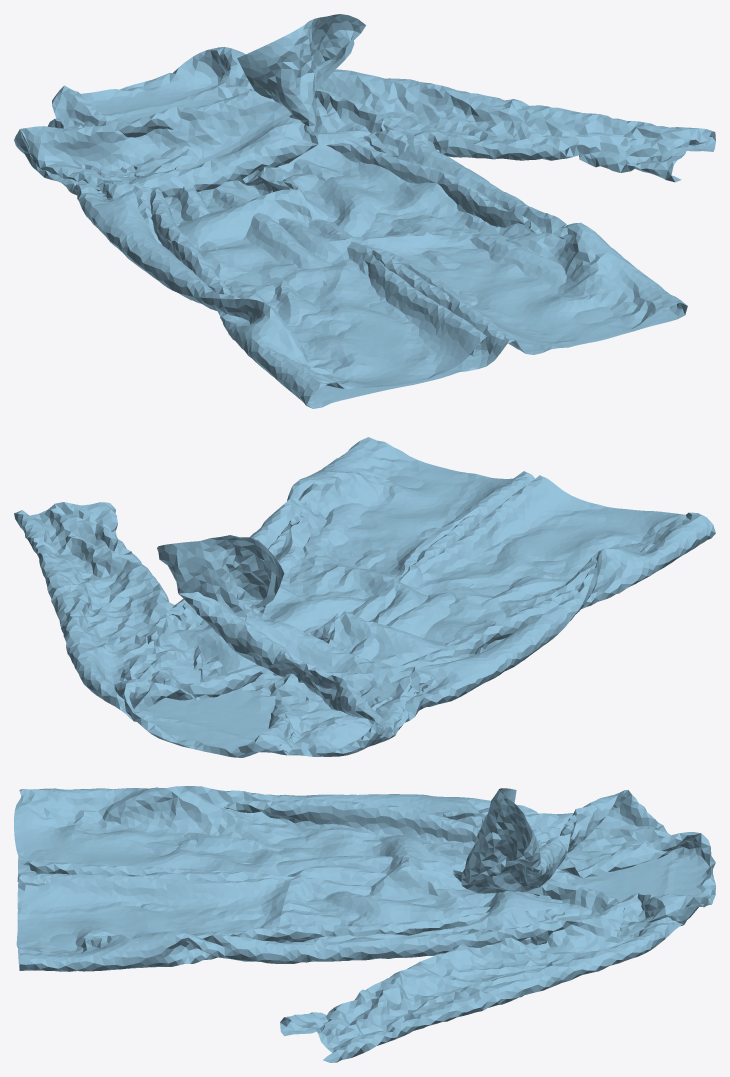
Rendered from frame_19.glb.
3 views of the same model, one above another, from view 1: azimuth 30°, elevation 25°; view 2: azimuth 150°, elevation 25°; view 3: azimuth 270°, elevation 25° (orthographic). The views are drawn at different scales.
Parts seen in each view (by area): view 1: frame_19.obj; view 2: frame_19.obj; view 3: frame_19.obj.
Boxes of the visible parts, x1,y1,x2,y2 form: frame_19.obj: (14, 14, 715, 408); frame_19.obj: (14, 437, 715, 757); frame_19.obj: (14, 786, 715, 1062).
Bounding box in the file's own units: 1.49 × 0.3279 × 1.68.
